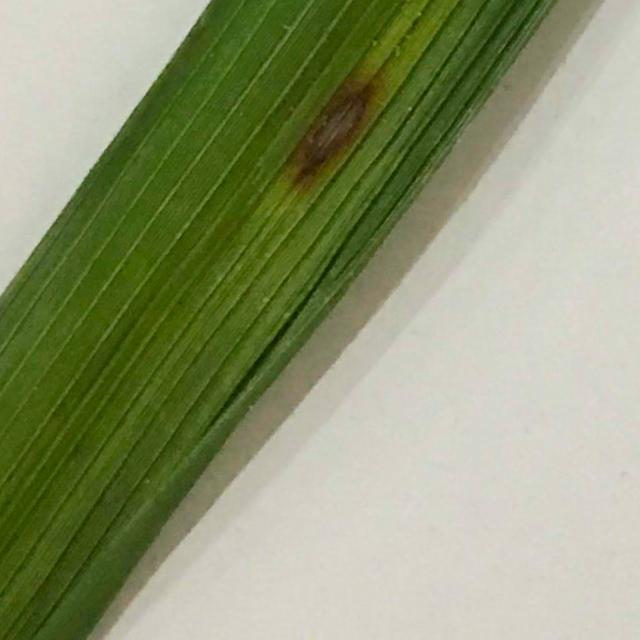Blast: (300, 82, 382, 172)
